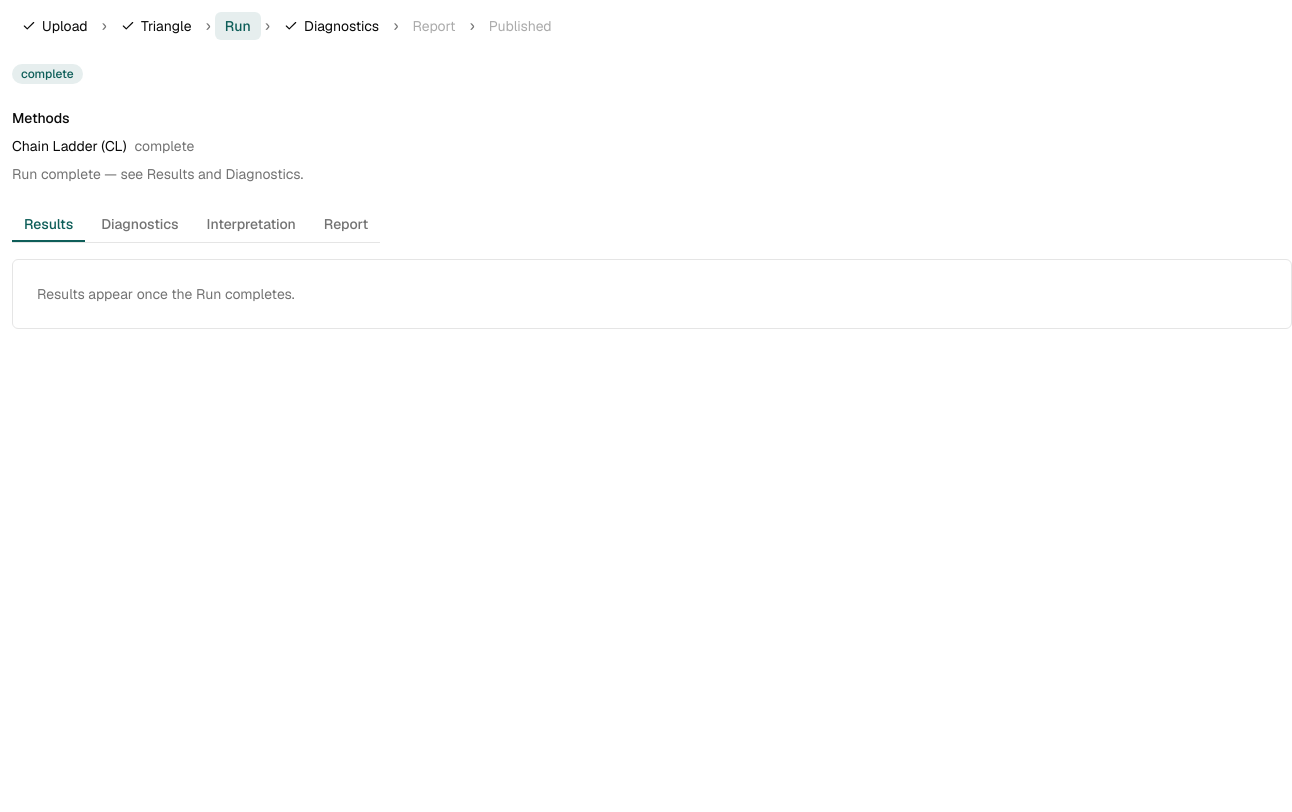
RunDetail (AC2, AC3, AC4) › Engine-Only Mode (simulated): Diagnostics render with no Interpretation props (AC7)
Click the button "Diagnostics": {"x": 332, "y": 26} [274,12,389,40]
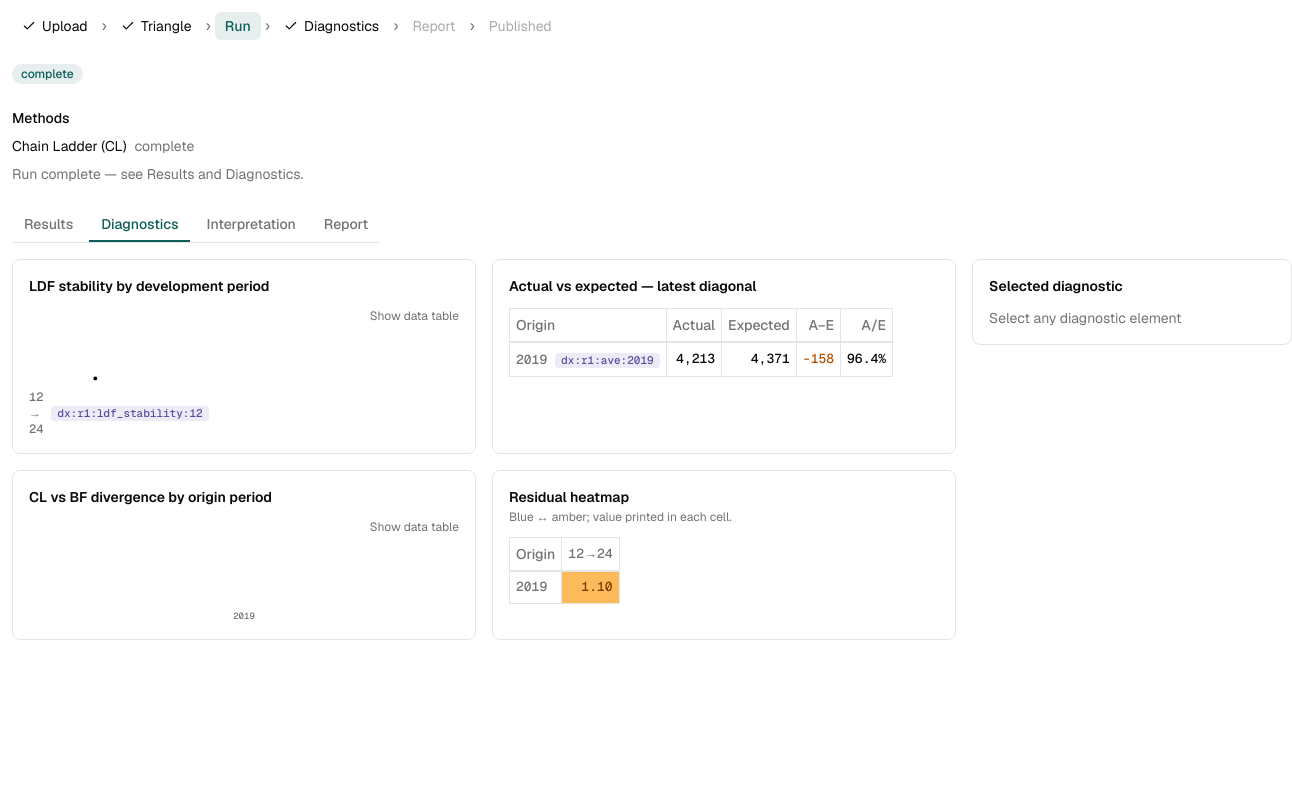
Now the heading "LDF stability by development period" is shown, box [29,277,270,295]
Now the heading "Residual heatmap" is shown, box [509,488,629,506]
